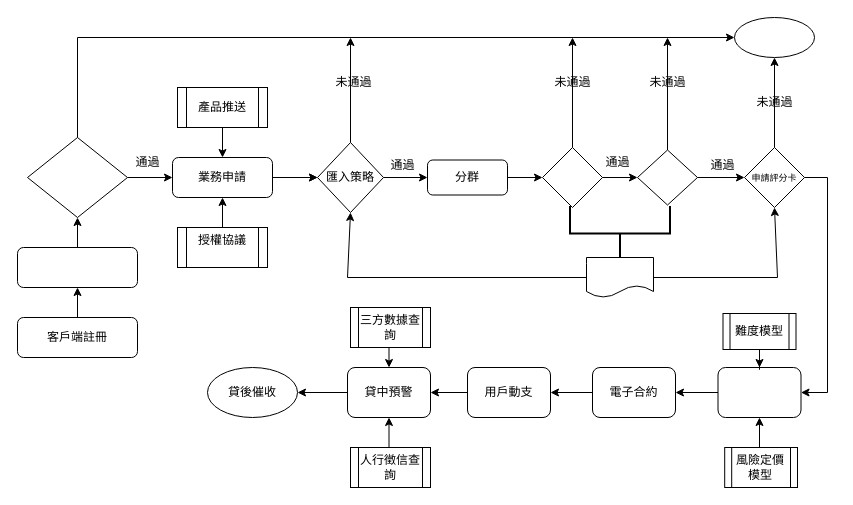
Some shapes in this 853 by 505 pixel diagram are drawn without their labels. The shapes that lost their labels are listed below. From the top down, each one's centre as x and y in pixels, then its label:
point (774, 37): 拒絕
point (77, 177): 身分核驗
point (572, 177): 反詐欺策略
point (667, 177): 使用風險策略
point (77, 267): 資料上傳提交
point (620, 277): 線上風控特徵庫
point (759, 392): 綜合決策
